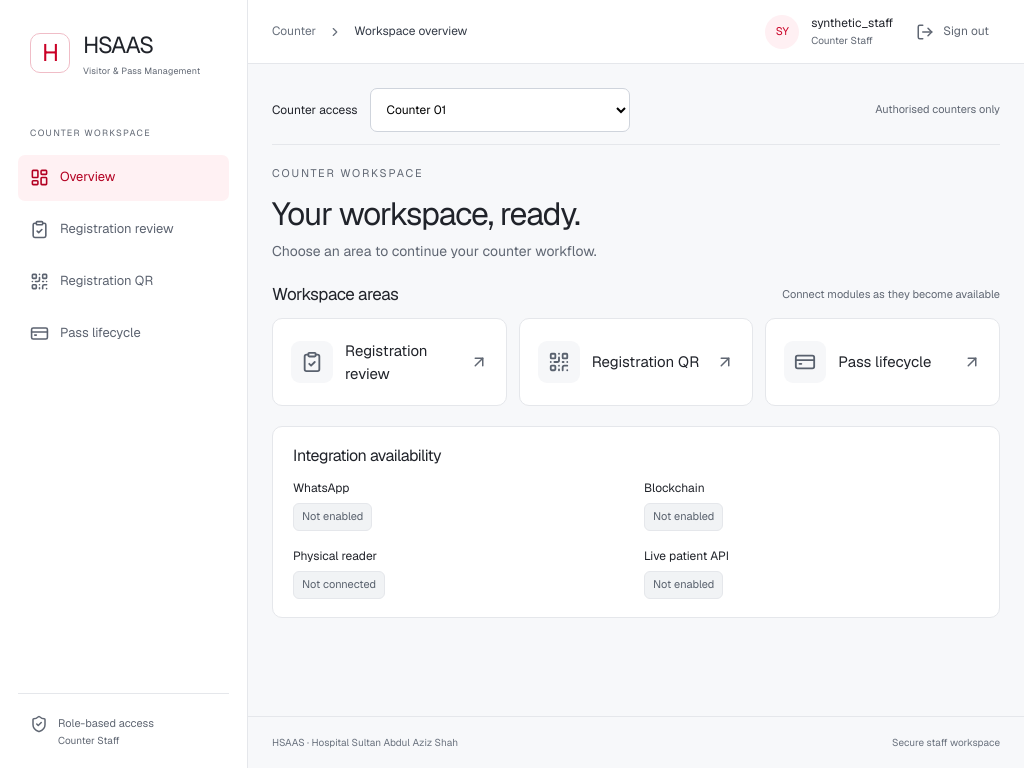
it: shell auth and role interactions › signs out and unmounts protected shell
Expected: the heading "Your workspace, ready." is shown, top-left (272, 193), bottom-right (579, 234)
Click the button "Sign out": (953, 32) top-left (905, 10), bottom-right (1000, 54)
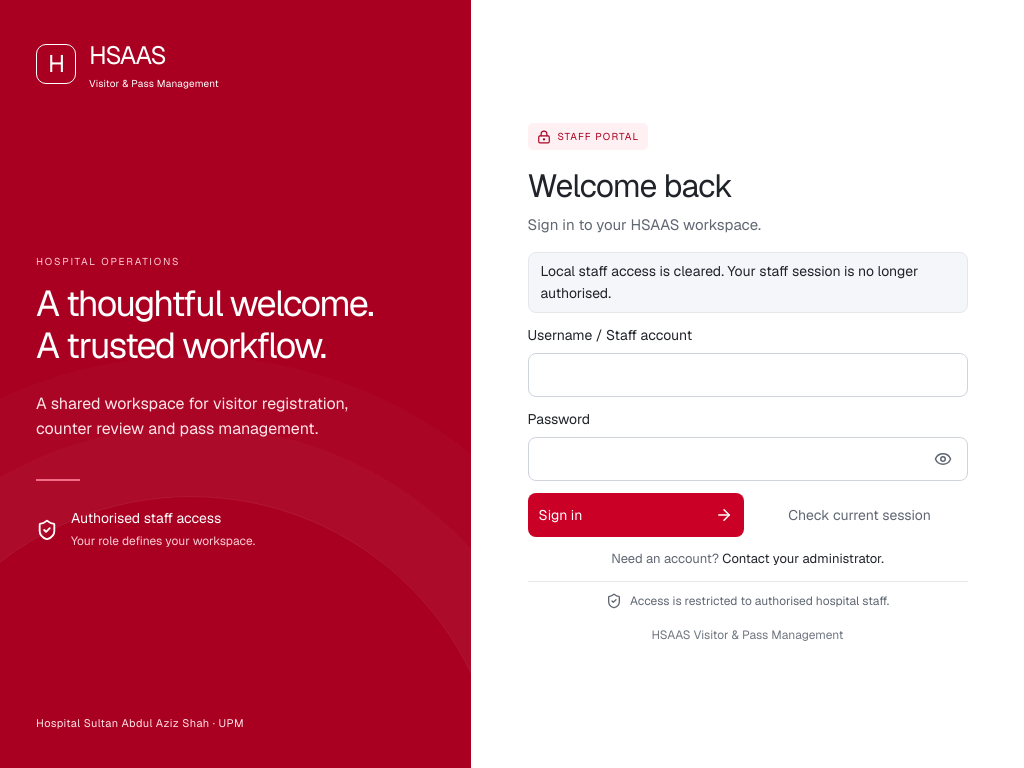
Result: the heading "Welcome back" is shown at top-left (528, 164), bottom-right (732, 206)
